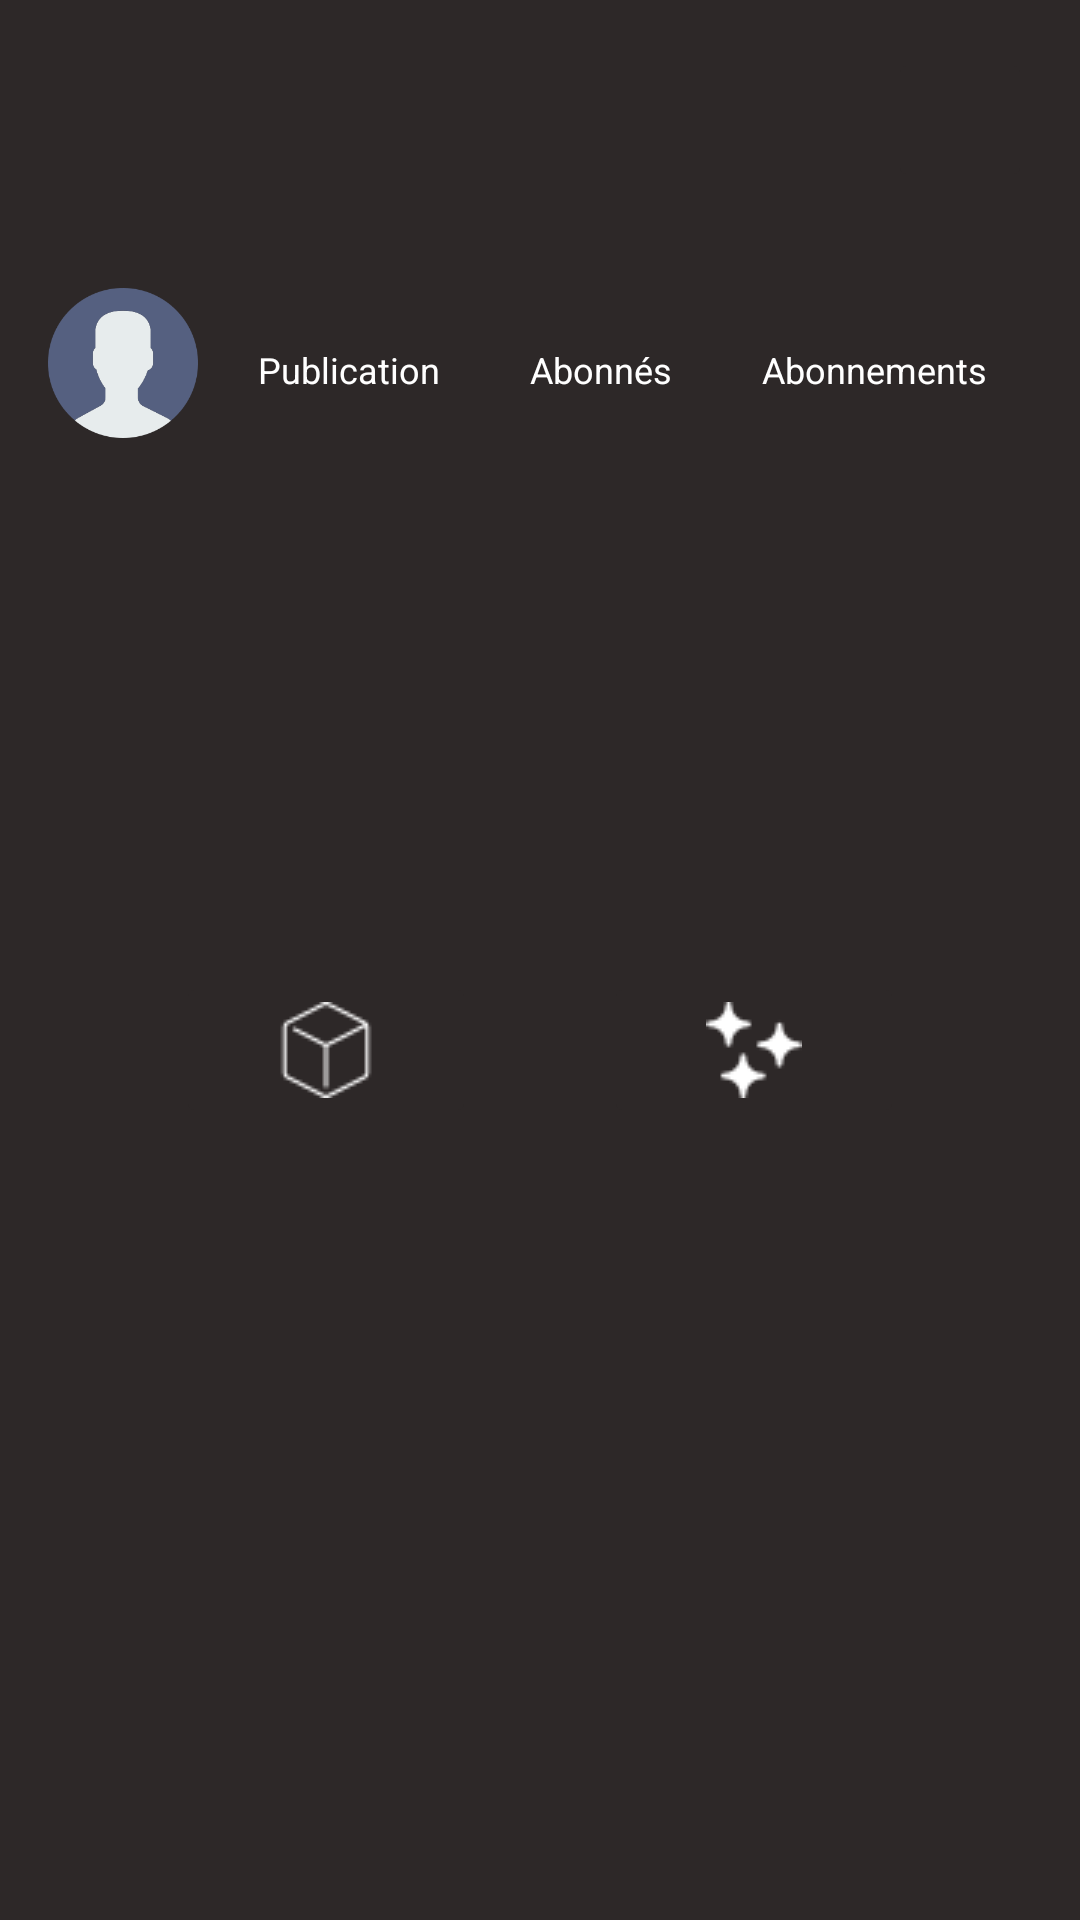

Icons on this 1080×1920 Android screen, each with the point to tap as [x,y]:
cube: [326,1050]
photo profil: [123,363]
